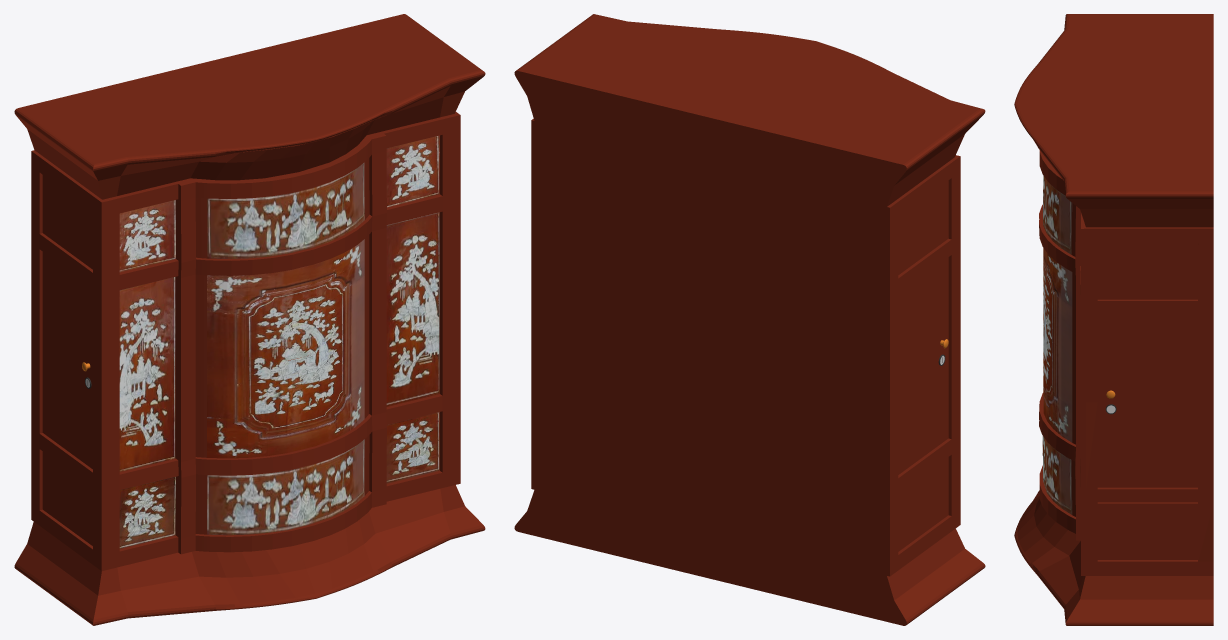
Rendered from altar.fbx.
3 renders of one model, left to right at view 1: azimuth 30°, elevation 25°; view 2: azimuth 150°, elevation 25°; view 3: azimuth 270°, elevation 25°, orthographic. The views are drawn at different scales.
Visible parts, largest first — view 1: Cube; view 2: Cube; view 3: Cube.
Boxes of the visible parts, bbox=[...] form: Cube: bbox=[14, 14, 485, 625]; Cube: bbox=[514, 14, 985, 625]; Cube: bbox=[1014, 14, 1213, 625].
Size of the model in its own units: 267 by 300 by 125.
4 materials, 1 textured.
